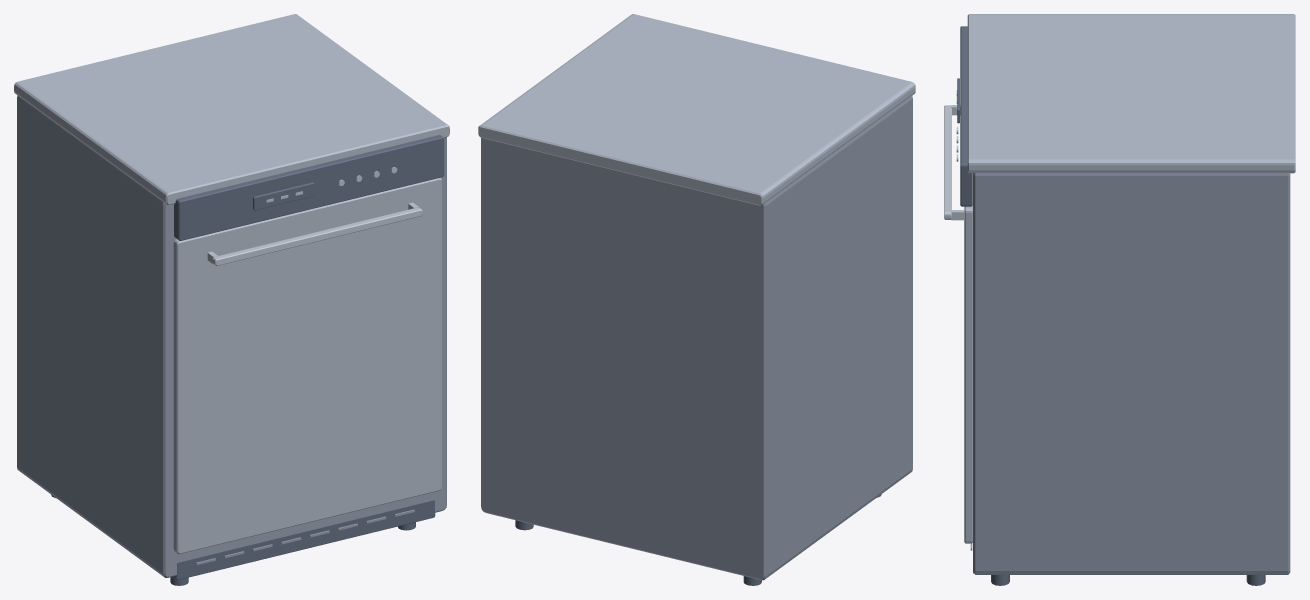
The model's file is dishwasher.glb.
The picture shows the model from 3 angles, left to right: view 1: azimuth 30°, elevation 25°; view 2: azimuth 150°, elevation 25°; view 3: azimuth 270°, elevation 25°; orthographic projection. The views are drawn at different scales.
Parts seen in each view (by area): view 1: soft, body, dark, light; view 2: body, soft; view 3: body, soft, dark, light.
Boxes of the visible parts, x1,y1,x2,y2 form: soft: (14, 14, 449, 554); body: (17, 95, 446, 577); dark: (51, 135, 444, 585); light: (207, 167, 422, 265); body: (481, 96, 912, 580); soft: (478, 14, 915, 205); body: (970, 172, 1290, 574); soft: (964, 14, 1295, 543); dark: (957, 26, 1265, 585); light: (944, 90, 963, 220).
Bounding box in the file's own units: 0.6 × 0.82 × 0.6.
